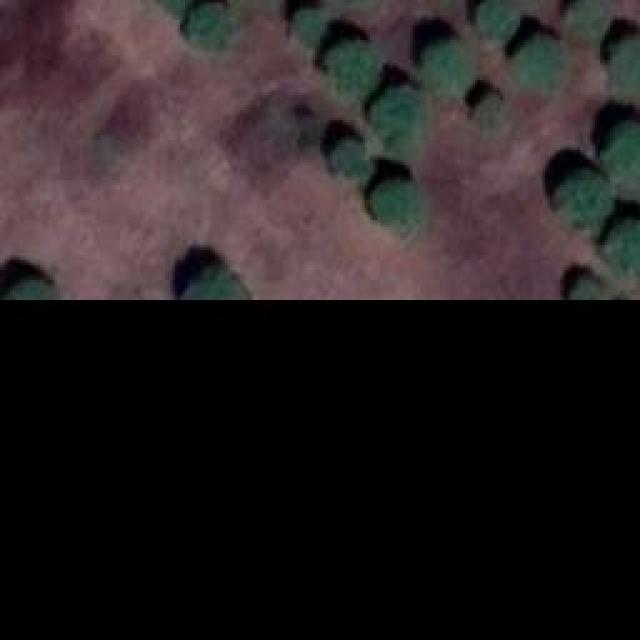Tree: (373, 83, 426, 146), (560, 170, 613, 228), (323, 38, 376, 93), (515, 35, 568, 90), (422, 43, 470, 93), (370, 175, 413, 225), (605, 120, 640, 180), (185, 265, 245, 298), (605, 218, 640, 273), (190, 5, 230, 50), (475, 0, 520, 40), (563, 0, 608, 40), (327, 138, 365, 178), (610, 40, 640, 85), (3, 275, 56, 298), (288, 8, 321, 43), (475, 97, 503, 125), (568, 280, 603, 298)
